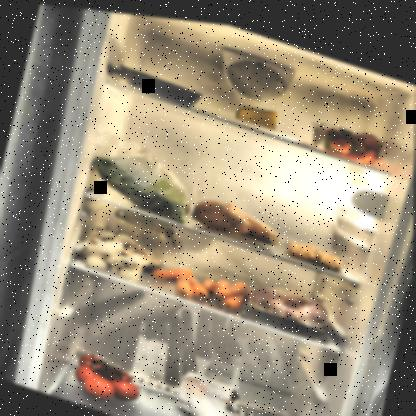carrot: (147, 249, 255, 312)
cheese: (234, 93, 281, 129)
chicken: (242, 269, 341, 338)
mushrooms: (77, 220, 157, 291)
shrimp: (284, 232, 347, 265)
spinach: (83, 134, 200, 224)
strawberries: (307, 107, 397, 166)
sweet_potato: (184, 183, 288, 245)
tomato: (67, 343, 149, 409)
